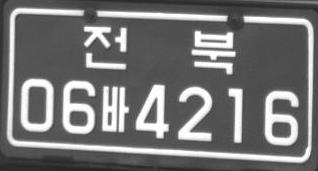0: (19, 75, 55, 132)
1: (221, 86, 251, 143)
2: (177, 85, 213, 142)
4: (135, 83, 169, 138)
6: (262, 89, 299, 146), (60, 80, 96, 134)
바: (100, 85, 129, 133)
전북_D: (82, 24, 236, 74)
